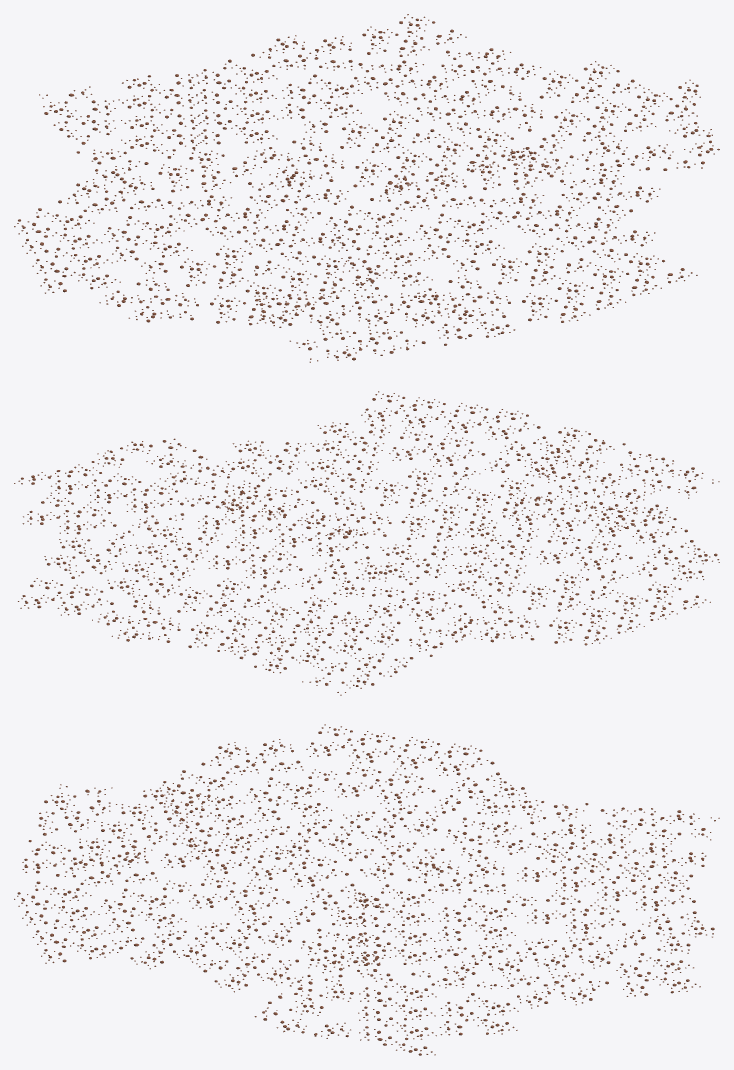
Rendered from ap_modular_wadi_desert_rock_small.gltf.
The picture shows the model from 3 angles, top to bottom: view 1: azimuth 30°, elevation 25°; view 2: azimuth 150°, elevation 25°; view 3: azimuth 270°, elevation 25°; orthographic projection. The views are drawn at different scales.
Visible parts, largest first — view 1: ap_modular_wadi_desert_rock_small; view 2: ap_modular_wadi_desert_rock_small; view 3: ap_modular_wadi_desert_rock_small.
Boxes of the visible parts, bbox=[...] form: ap_modular_wadi_desert_rock_small: bbox=[14, 14, 719, 362]; ap_modular_wadi_desert_rock_small: bbox=[14, 391, 719, 695]; ap_modular_wadi_desert_rock_small: bbox=[14, 724, 719, 1055].
Size of the model in its own units: 23.13 by 0.0747 by 20.87.
1 material, 1 textured.
